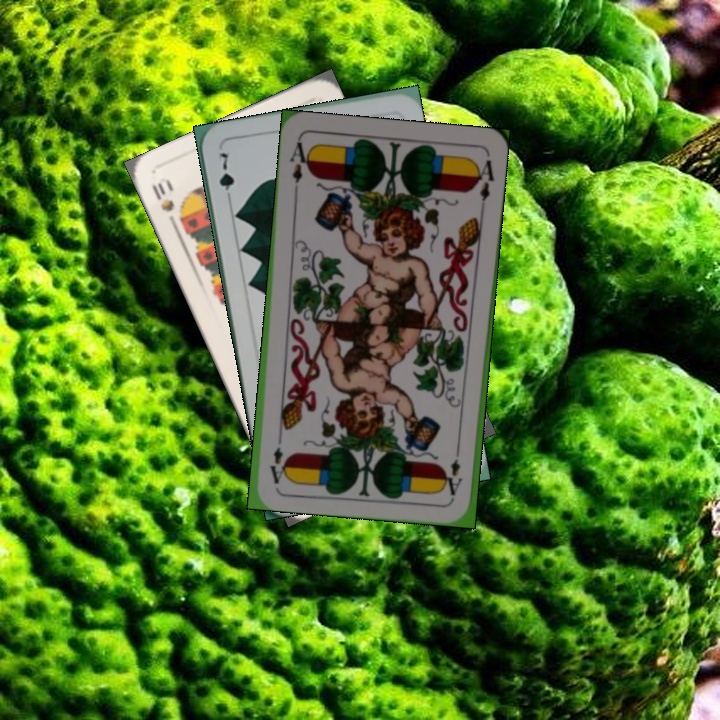EA: (286, 138, 313, 195), (443, 441, 465, 498)
G7: (214, 148, 237, 205)
S10: (147, 173, 181, 231)
